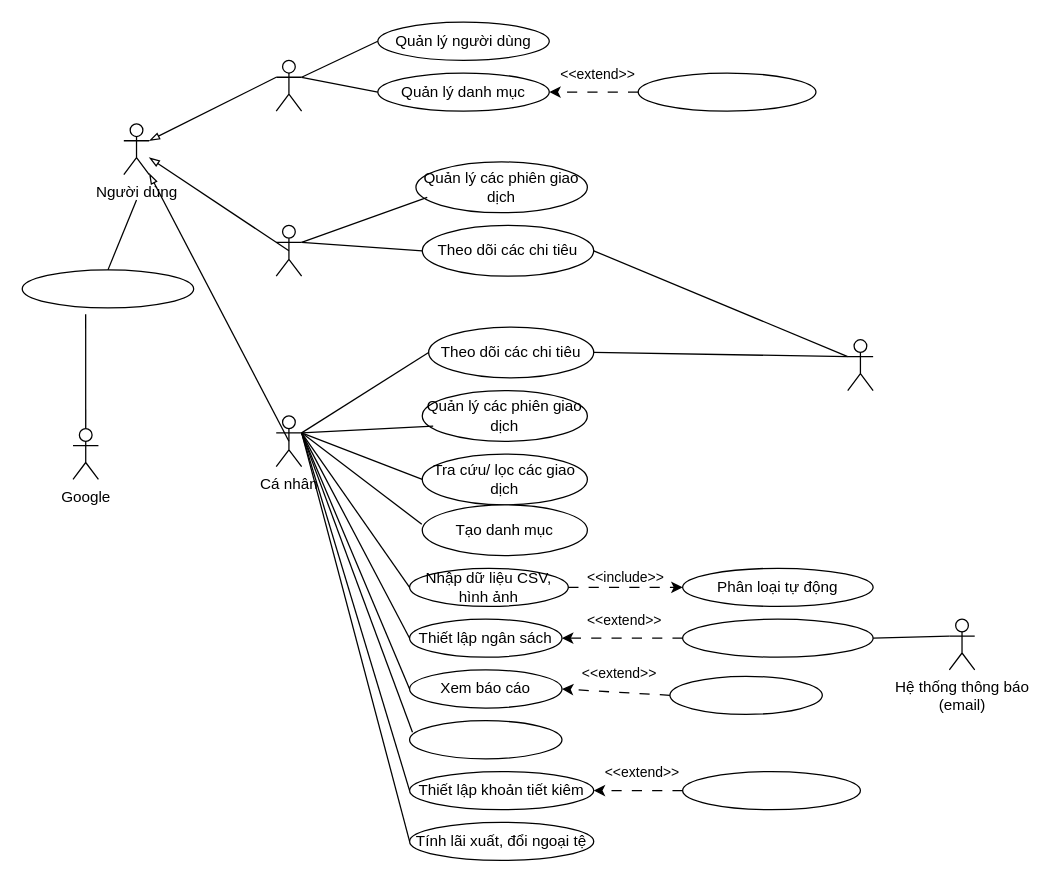
This 1050x883 diagram has some shape labels left out. The shapes that lost their labels are listed below. From the top down, each one's centre as x and y in pixels, then its label:
the point at 288,85: Admin
the point at 726,91: Cấu hình hệ thống
the point at 288,250: Gia đình
the point at 107,288: Đăng nhập
the point at 859,364: Hệ thống AI nhận xét
the point at 777,637: Cảnh báo vượt ngân sách
the point at 745,694: Xuất báo cáo
the point at 485,739: Chia sẻ tài khoản
the point at 770,790: Xem mức đã tiết kiệm
